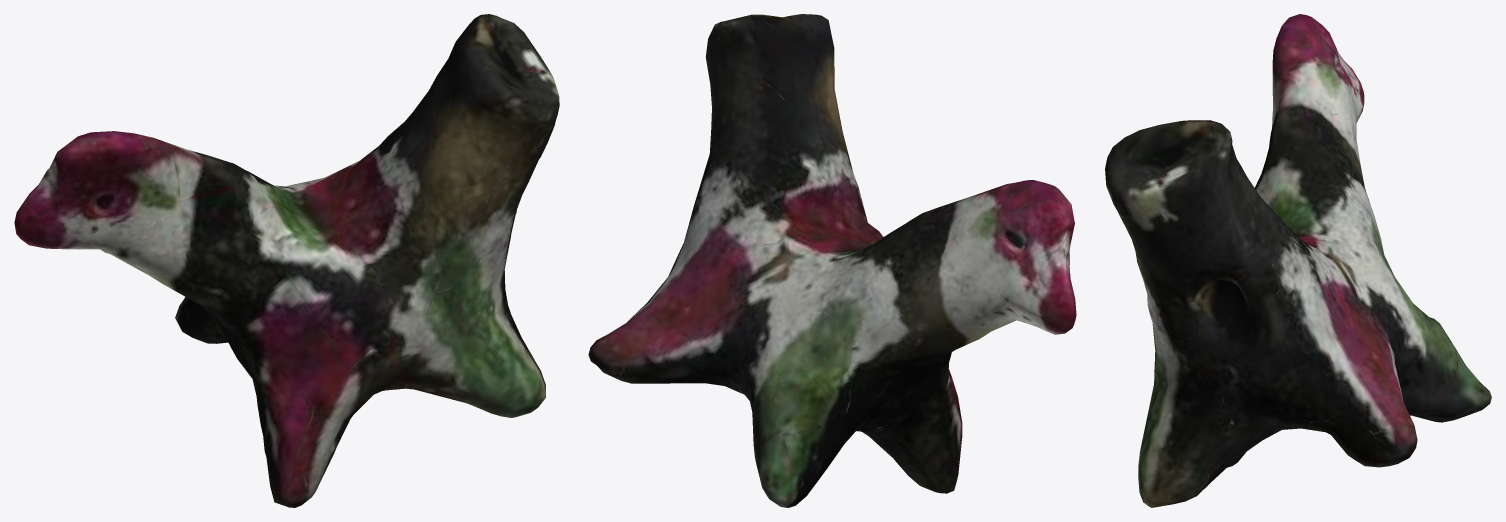
The model's file is hall.glb.
The picture shows the model from 3 angles, left to right: view 1: azimuth 30°, elevation 25°; view 2: azimuth 150°, elevation 25°; view 3: azimuth 270°, elevation 25°; orthographic projection. The views are drawn at different scales.
Size of the model in its own units: 0.5376 by 0.478 by 0.3814.
1 material, 1 textured.
